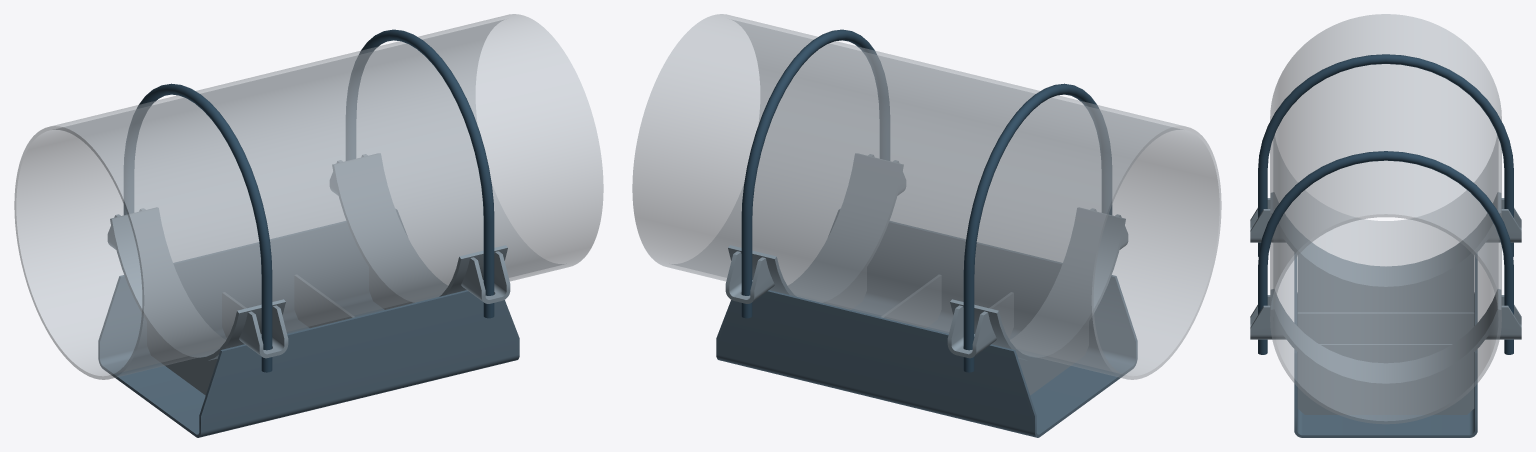
Rendered from TS-626.00.000-099-opora-dn480-H100-L680.glb.
The picture shows the model from 3 angles, left to right: view 1: azimuth 30°, elevation 25°; view 2: azimuth 150°, elevation 25°; view 3: azimuth 270°, elevation 25°; orthographic projection. The views are drawn at different scales.
Visible parts, largest first — view 1: truba, skoba_0, podushka_5, podushka_6, homut_0, homut_1, rebro5_4, rebro4_1, ushko_10, ushko_8, rebro4_2; view 2: truba, skoba_0, podushka_5, podushka_6, homut_0, homut_1, rebro5_4, rebro4_1, ushko_9, ushko_7, rebro4_2; view 3: truba, rebro4_2, rebro4_1, podushka_6, podushka_5, rebro5_3, skoba_0, homut_1, homut_0, rebro5_4, ushko_9, ushko_10 (+2 smaller).
Part boxes in pixels (x1=…): truba: x1=14, y1=14, x2=603, y2=379; skoba_0: x1=98, y1=209, x2=519, y2=437; podushka_5: x1=110, y1=207, x2=285, y2=361; podushka_6: x1=332, y1=153, x2=507, y2=304; homut_0: x1=123, y1=83, x2=272, y2=372; homut_1: x1=346, y1=29, x2=494, y2=318; rebro5_4: x1=294, y1=275, x2=354, y2=327; rebro4_1: x1=147, y1=322, x2=217, y2=395; ushko_10: x1=461, y1=251, x2=510, y2=303; ushko_8: x1=239, y1=305, x2=288, y2=358; rebro4_2: x1=369, y1=268, x2=406, y2=309; truba: x1=632, y1=14, x2=1221, y2=379; skoba_0: x1=716, y1=209, x2=1137, y2=437; podushka_5: x1=950, y1=207, x2=1125, y2=361; podushka_6: x1=728, y1=153, x2=903, y2=304; homut_0: x1=963, y1=83, x2=1112, y2=372; homut_1: x1=741, y1=29, x2=889, y2=318; rebro5_4: x1=881, y1=275, x2=941, y2=327; rebro4_1: x1=1018, y1=322, x2=1088, y2=395; ushko_9: x1=725, y1=251, x2=774, y2=303; ushko_7: x1=947, y1=305, x2=996, y2=358; rebro4_2: x1=829, y1=268, x2=866, y2=309; truba: x1=1270, y1=14, x2=1501, y2=424; rebro4_2: x1=1297, y1=353, x2=1474, y2=414; rebro4_1: x1=1297, y1=256, x2=1474, y2=312; podushka_6: x1=1270, y1=289, x2=1501, y2=387; podushka_5: x1=1270, y1=192, x2=1501, y2=290; rebro5_3: x1=1297, y1=312, x2=1474, y2=343; skoba_0: x1=1294, y1=253, x2=1477, y2=437; homut_1: x1=1258, y1=151, x2=1513, y2=354; homut_0: x1=1258, y1=54, x2=1513, y2=256; rebro5_4: x1=1319, y1=344, x2=1452, y2=363; ushko_9: x1=1485, y1=295, x2=1521, y2=339; ushko_10: x1=1250, y1=295, x2=1286, y2=339.
Bounding box in the file's own units: 980 × 606 × 562.
